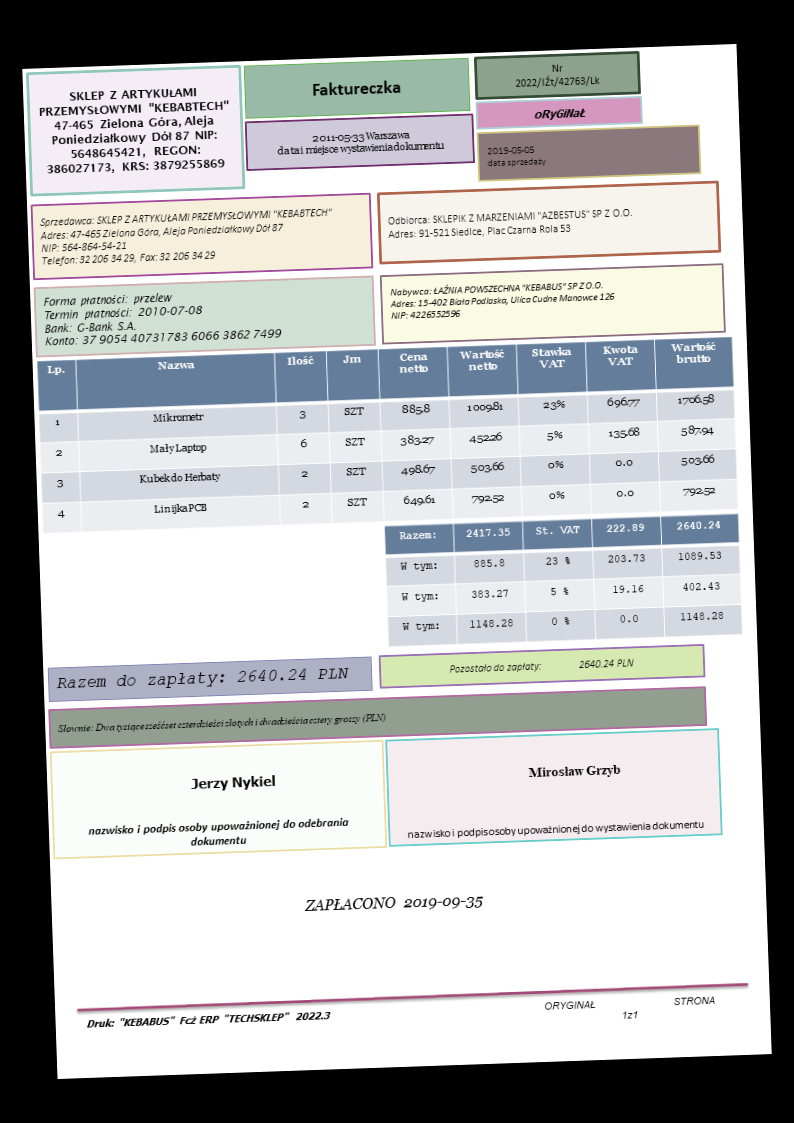Table: (34, 335, 740, 533), (383, 512, 744, 647)
TextBox: (36, 205, 334, 269), (35, 82, 234, 176), (39, 287, 283, 349), (386, 277, 616, 322), (385, 204, 634, 241), (55, 711, 388, 738), (54, 664, 350, 692), (274, 125, 448, 158), (85, 1007, 332, 1030), (541, 994, 718, 1023), (301, 890, 485, 917), (446, 655, 635, 676), (513, 59, 603, 90), (308, 77, 402, 99), (484, 142, 550, 171), (187, 772, 278, 793), (527, 762, 622, 781), (531, 104, 590, 121)
